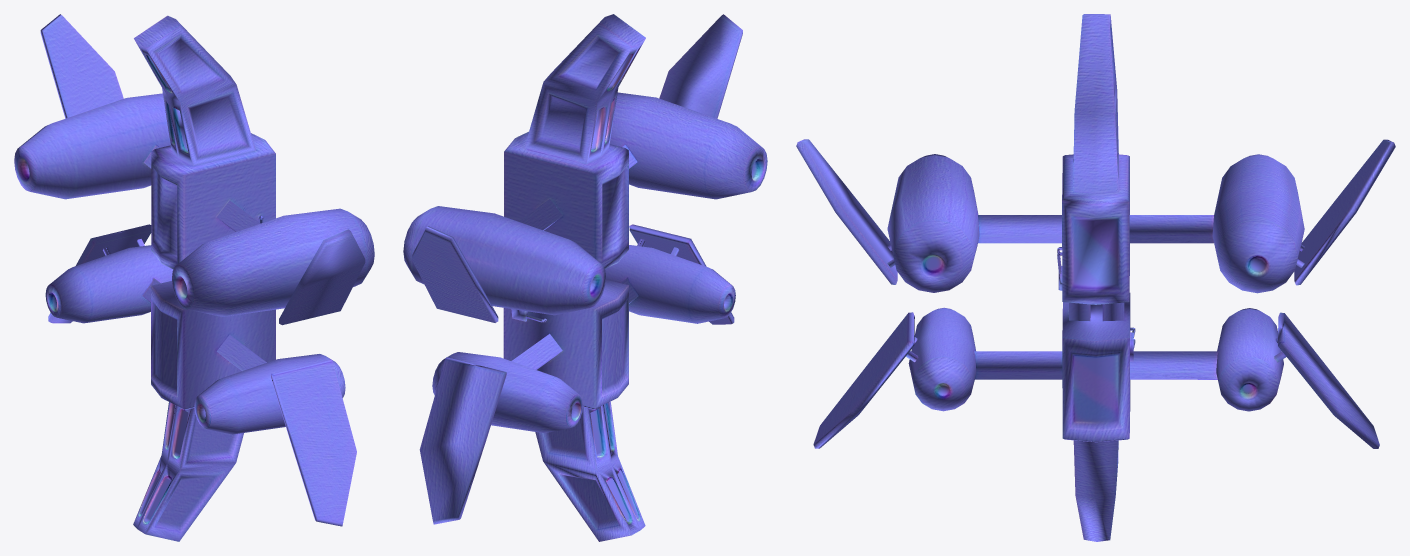
File: SpaceShipNormal.obj
3 renders of one model, left to right at view 1: azimuth 30°, elevation 25°; view 2: azimuth 150°, elevation 25°; view 3: azimuth 270°, elevation 25°, orthographic.
Visible parts, largest first — view 1: objdefault; view 2: objdefault; view 3: objdefault.
Part boxes in pixels (<box>): objdefault: <box>14,14,374,541</box>; objdefault: <box>403,14,767,541</box>; objdefault: <box>796,14,1395,541</box>.
Size of the model in its own units: 6.4 by 16.99 by 17.53.
1 material, 1 textured.
